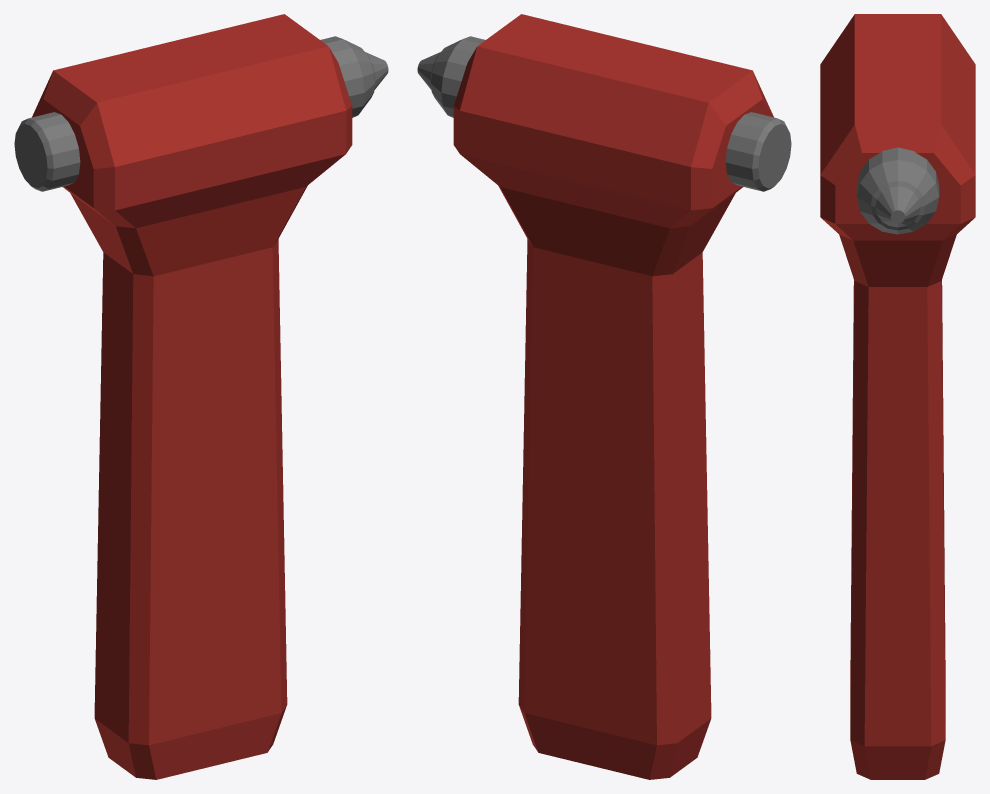
File: breaker.fbx
3 renders of one model, left to right at view 1: azimuth 30°, elevation 25°; view 2: azimuth 150°, elevation 25°; view 3: azimuth 270°, elevation 25°, orthographic. The views are drawn at different scales.
Parts seen in each view (by area): view 1: Breaker; view 2: Breaker; view 3: Breaker.
Part boxes in pixels (box(x1,y1,x2,y2)): Breaker: box(14, 14, 388, 779); Breaker: box(417, 14, 791, 779); Breaker: box(820, 14, 975, 779).
Bounding box in the file's own units: 31.05 × 58.09 × 12.06.
